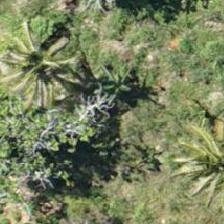coconut_tree: (0, 15, 85, 105)
